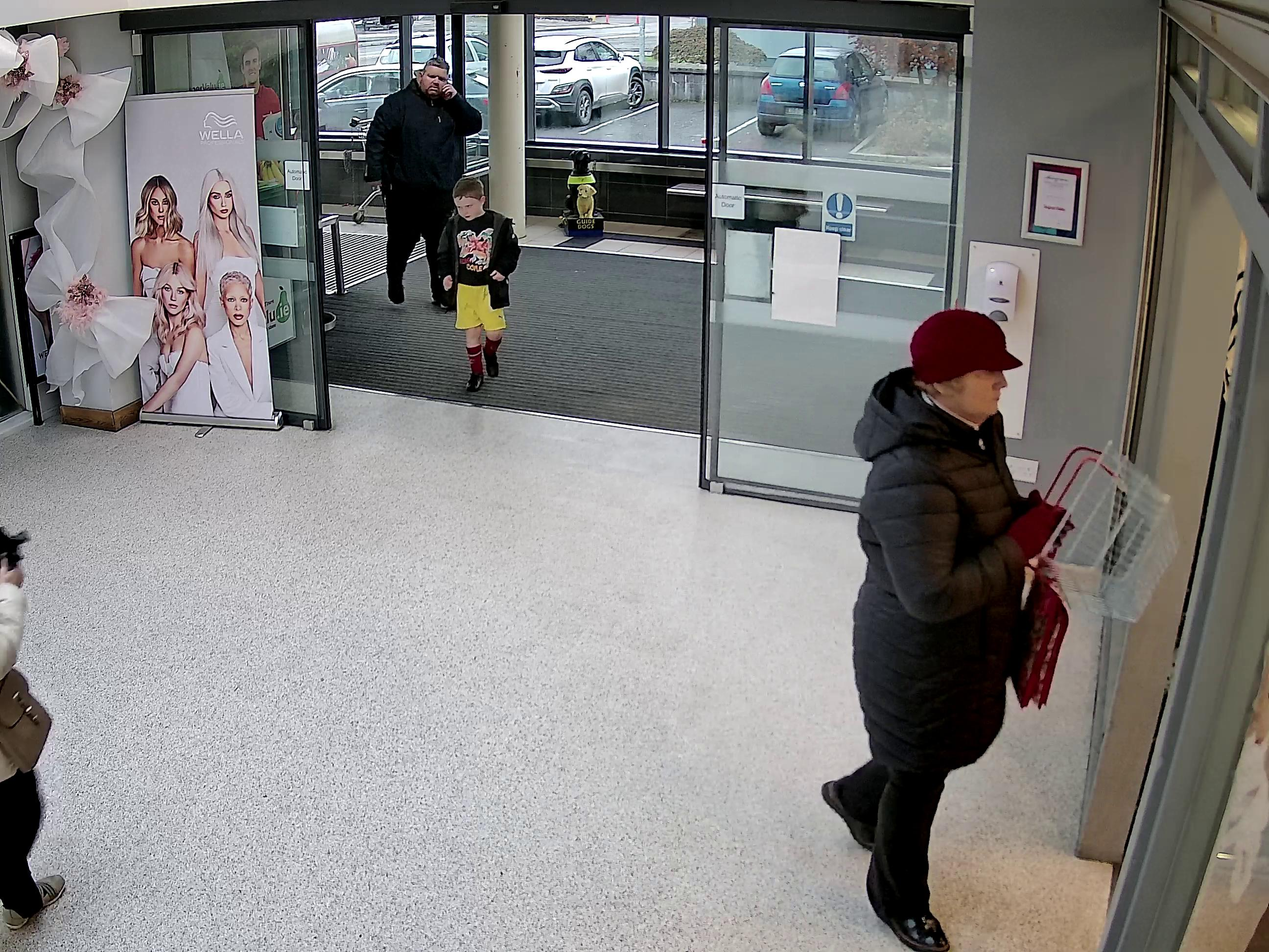empty-basket: (1021, 435, 1179, 626)
empty-shopping-bags: (1013, 567, 1070, 711)
person: (821, 308, 1068, 948)
person-with-basket-trolly-and-shopping-bag: (821, 307, 1180, 952)
